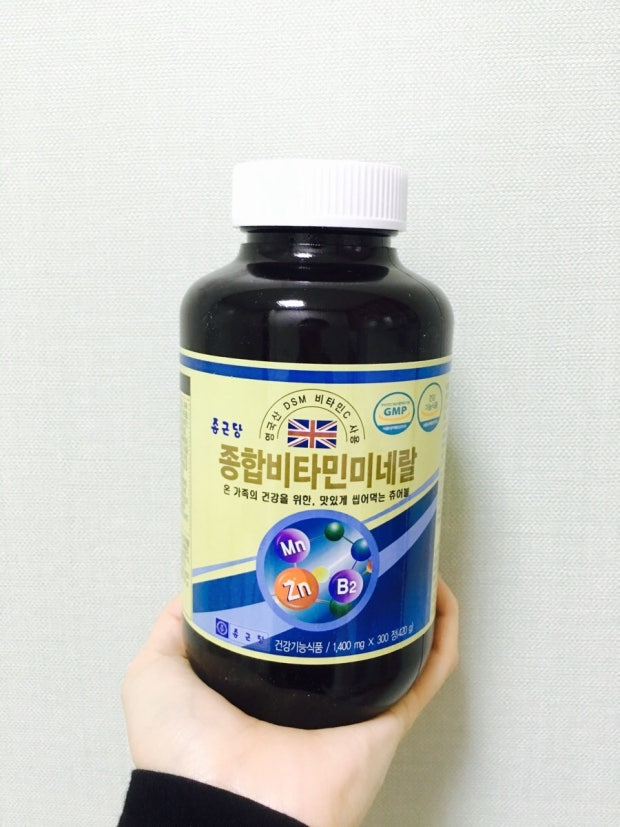supplement_label: (161, 333, 458, 671)
